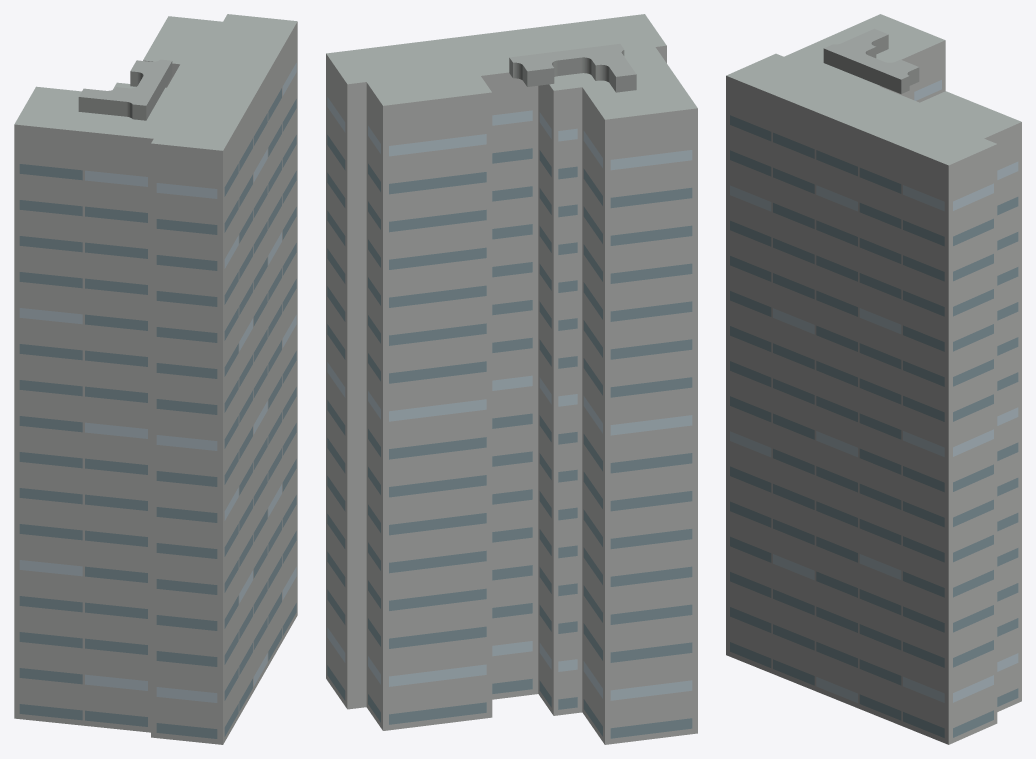
File: fallback-raemian-blesstige-214.glb
3 views of the same model, side by side, from view 1: azimuth 30°, elevation 25°; view 2: azimuth 150°, elevation 25°; view 3: azimuth 270°, elevation 25° (orthographic). The views are drawn at different scales.
Visible parts, largest first — view 1: fallback-raemian-blesstige-214; view 2: fallback-raemian-blesstige-214; view 3: fallback-raemian-blesstige-214.
Part boxes in pixels (x1,y1,x2,y2): fallback-raemian-blesstige-214: (14,14,297,744); fallback-raemian-blesstige-214: (326,14,697,744); fallback-raemian-blesstige-214: (726,14,1021,744).
Bounding box in the file's own units: 53.61 × 98 × 44.25.
